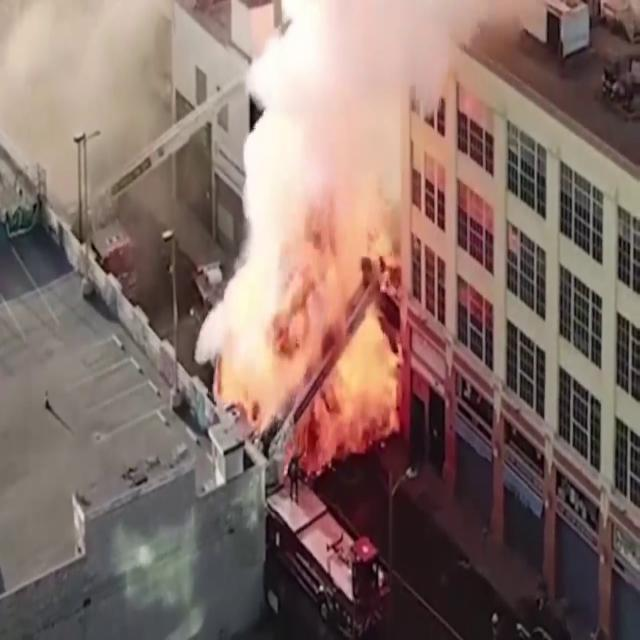Fire: (265, 264, 404, 462)
Smoke: (207, 0, 416, 430), (0, 0, 196, 294)
